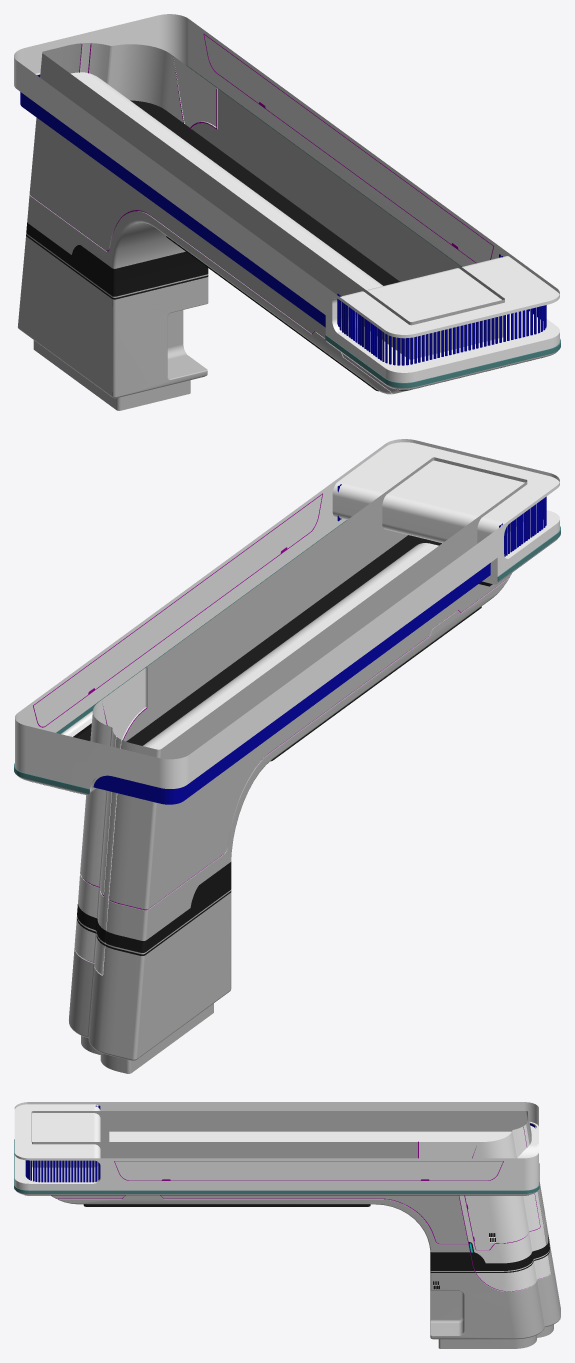
File: KitchenWall_Mesh.fbx
3 views of the same model, one above another, from view 1: azimuth 30°, elevation 25°; view 2: azimuth 150°, elevation 25°; view 3: azimuth 270°, elevation 25° (orthographic). The views are drawn at different scales.
Parts seen in each view (by area): view 1: KitchenWall_Mesh; view 2: KitchenWall_Mesh; view 3: KitchenWall_Mesh.
Boxes of the visible parts, x1=… form: KitchenWall_Mesh: x1=14, y1=14, x2=560, y2=410; KitchenWall_Mesh: x1=14, y1=439, x2=560, y2=1073; KitchenWall_Mesh: x1=14, y1=1102, x2=560, y2=1348.
Size of the model in its own units: 201 by 349 by 821.
